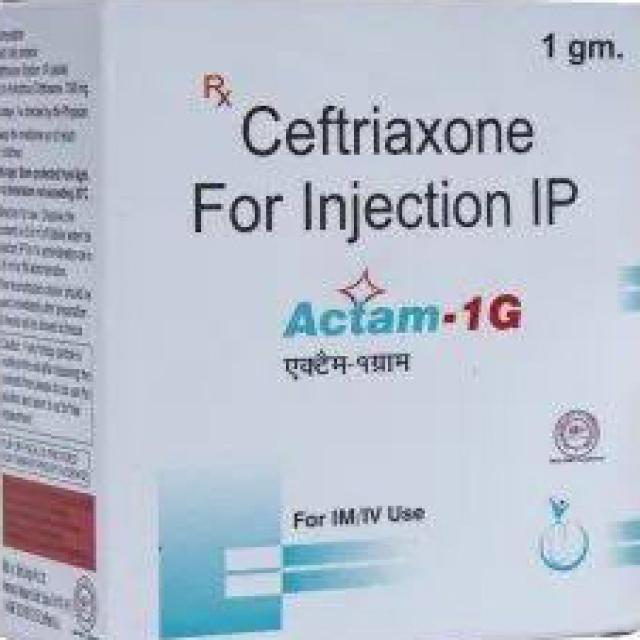drug-name: (279, 284, 527, 343)
